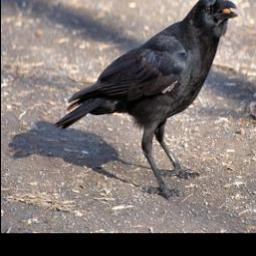Crow: (55, 0, 239, 200)
